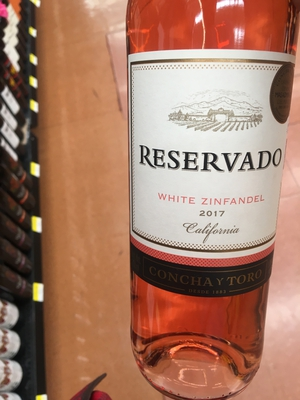reservado white zinfandel: (127, 3, 293, 394)
